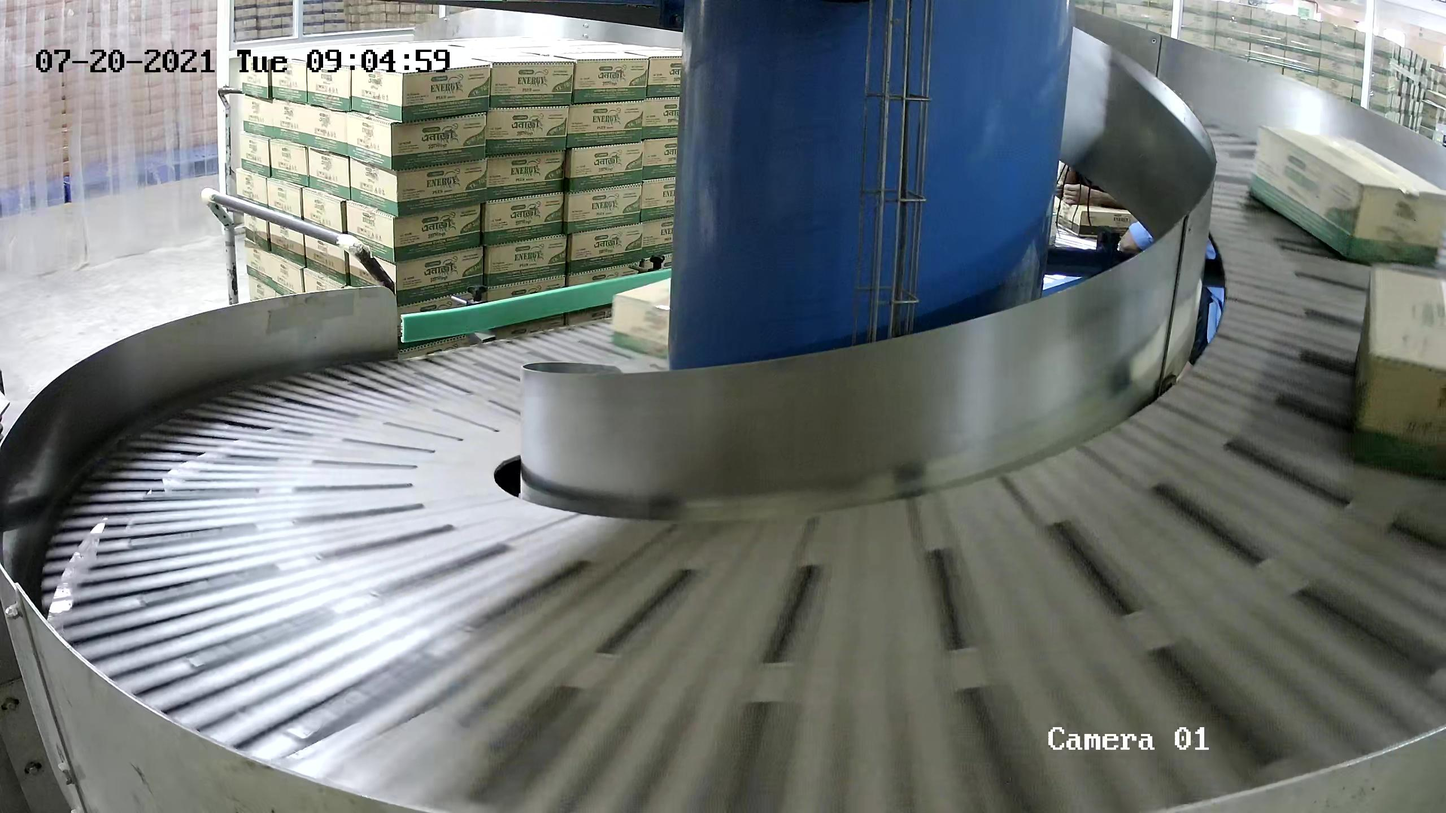Box: (1249, 122, 1446, 266), (1347, 263, 1446, 484), (613, 259, 752, 369)
